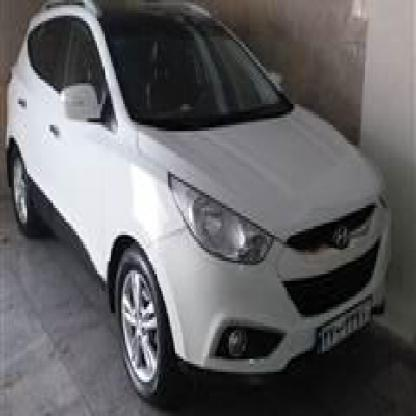car: (0, 0, 384, 414)
